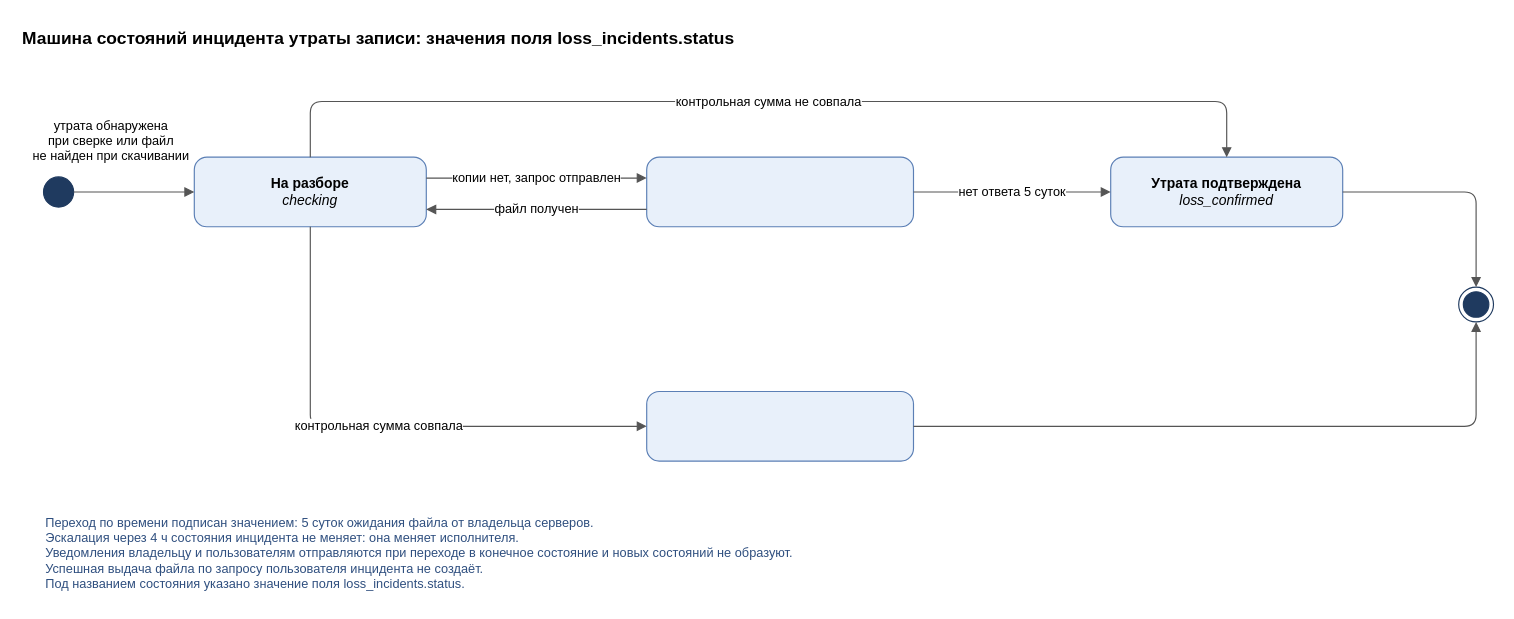
The diagram is 1514 pixels wide and 619 high, and some of its shapes have lost their labels. The shapes that lost their labels are listed below. From the top down, each one's centre as x and y in pixels, then its label:
At pixel 779 191: "Ожидает файл от владельца awaiting_owner".
At pixel 779 425: "Запись восстановлена restored".
